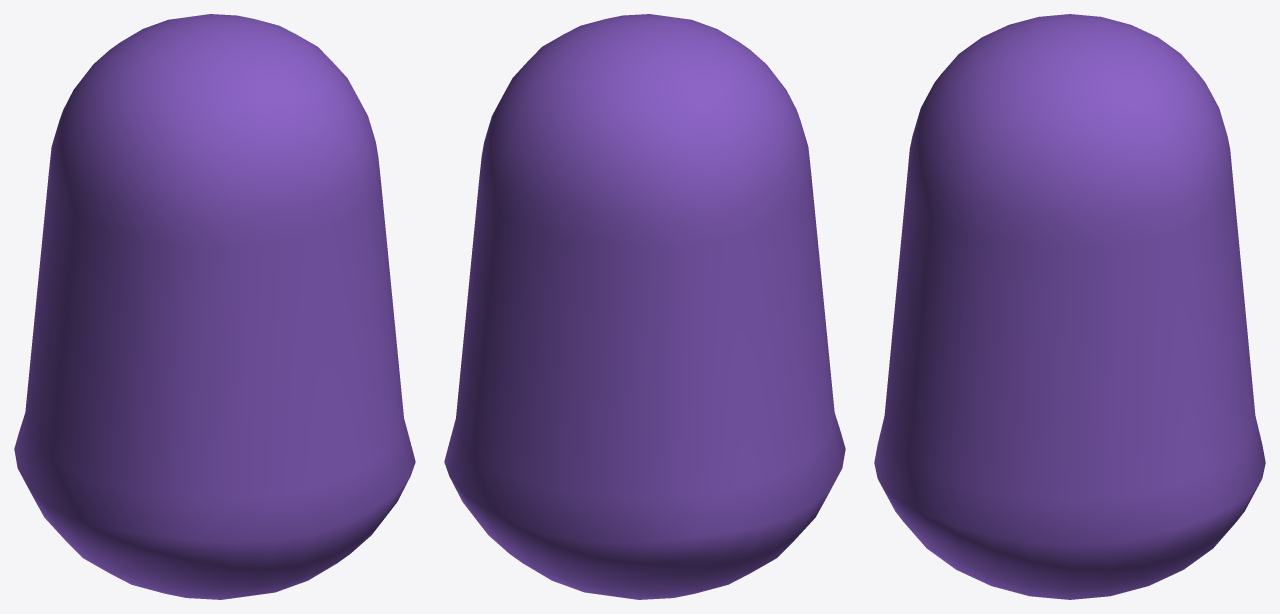
The model's file is Huegel1.fbx.
3 renders of one model, left to right at view 1: azimuth 30°, elevation 25°; view 2: azimuth 150°, elevation 25°; view 3: azimuth 270°, elevation 25°, orthographic.
Visible parts, largest first — view 1: pCube46; view 2: pCube46; view 3: pCube46.
Boxes of the visible parts, x1,y1,x2,y2 form: pCube46: [14, 14, 415, 599]; pCube46: [444, 14, 845, 599]; pCube46: [874, 14, 1265, 599].
Size of the model in its own units: 21.82 by 33.6 by 21.82.
